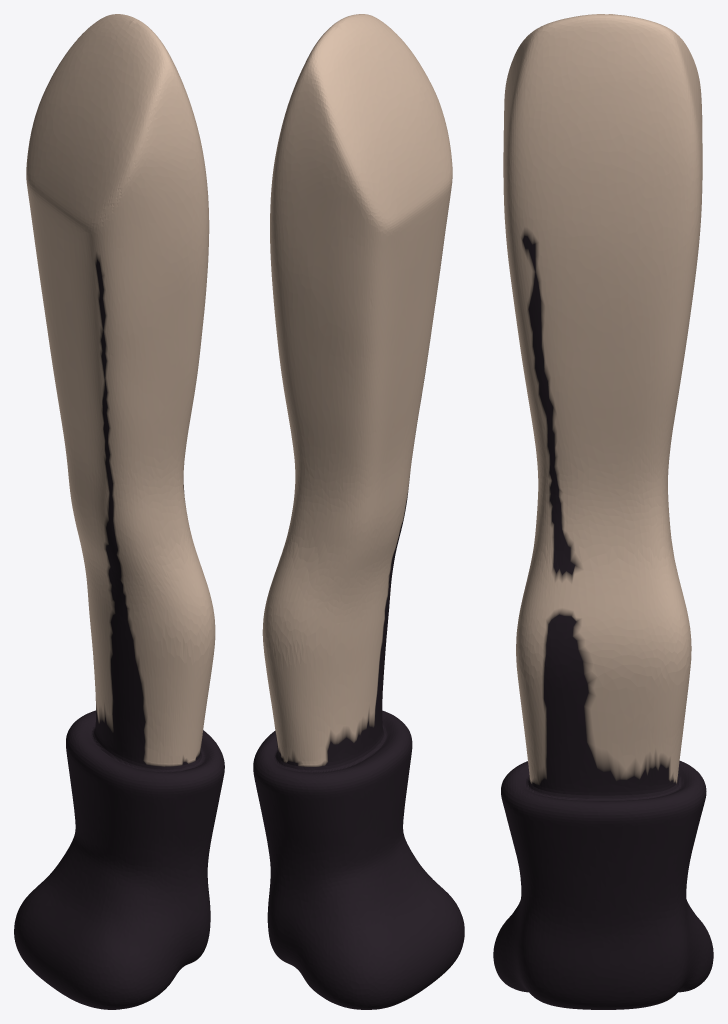
Rendered from leg_R.glb.
The picture shows the model from 3 angles, left to right: view 1: azimuth 30°, elevation 25°; view 2: azimuth 150°, elevation 25°; view 3: azimuth 270°, elevation 25°; orthographic projection. The views are drawn at different scales.
Visible parts, largest first — view 1: geometry_0; view 2: geometry_0; view 3: geometry_0.
Boxes of the visible parts, <box> form: geometry_0: <box>14,14,224,1009</box>; geometry_0: <box>253,14,464,1009</box>; geometry_0: <box>493,14,713,1009</box>.
Bounding box in the file's own units: 0.224 × 1.24 × 0.2487.
